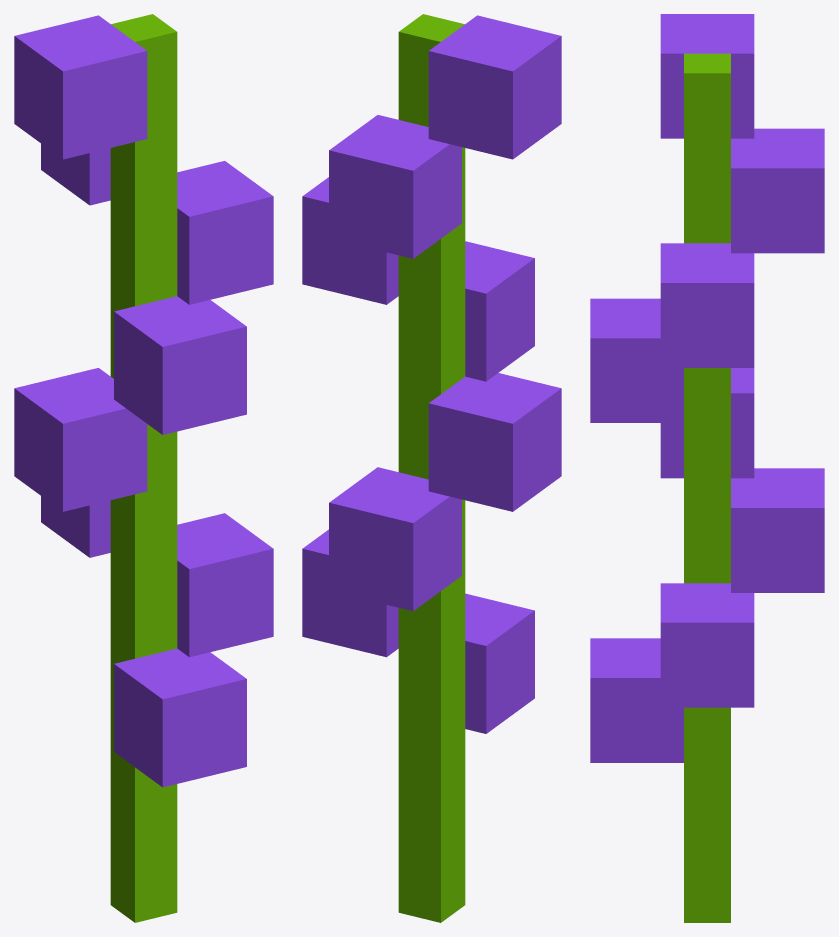
Rendered from Flower_04_Bloom.fbx.
3 views of the same model, side by side, from view 1: azimuth 30°, elevation 25°; view 2: azimuth 150°, elevation 25°; view 3: azimuth 270°, elevation 25° (orthographic). The views are drawn at different scales.
Visible parts, largest first — view 1: Flower_04_Bloom; view 2: Flower_04_Bloom; view 3: Flower_04_Bloom.
Part boxes in pixels (box(x1,y1,x2,y2)): Flower_04_Bloom: box(14, 14, 273, 922); Flower_04_Bloom: box(302, 14, 561, 922); Flower_04_Bloom: box(590, 14, 824, 922).
Bounding box in the file's own units: 10 × 40 × 10.
